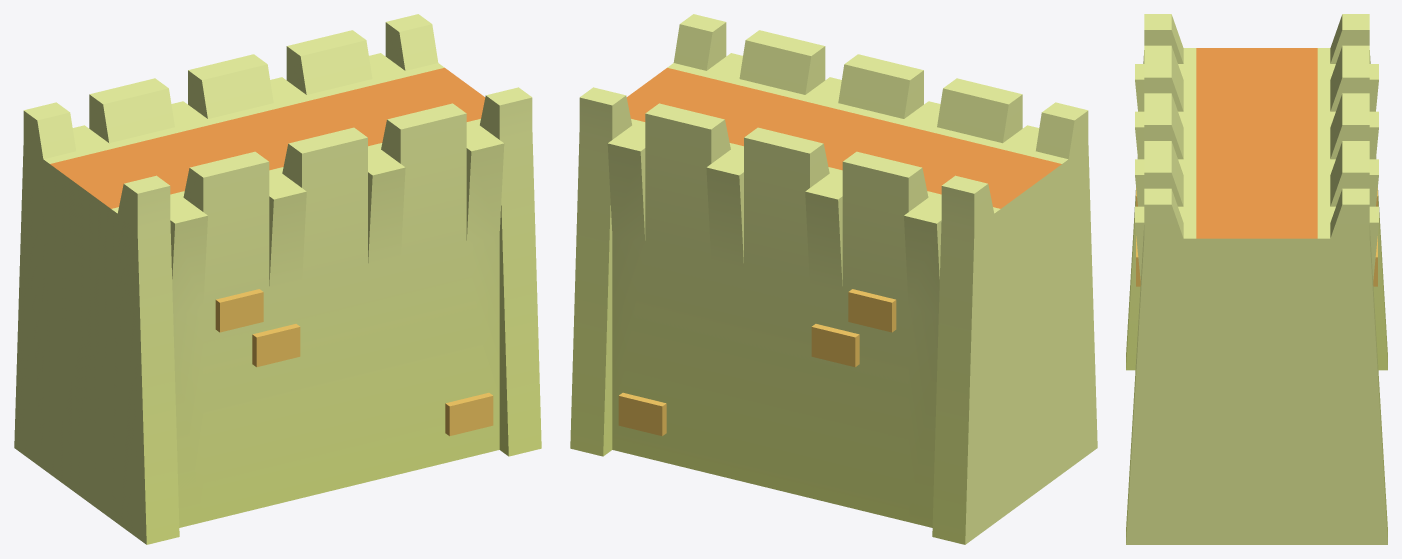
Rendered from Structure_Stone_Wall_01.fbx.
The picture shows the model from 3 angles, left to right: view 1: azimuth 30°, elevation 25°; view 2: azimuth 150°, elevation 25°; view 3: azimuth 270°, elevation 25°; orthographic projection.
Visible parts, largest first — view 1: Structure_Stone_Wall_01; view 2: Structure_Stone_Wall_01; view 3: Structure_Stone_Wall_01.
Boxes of the visible parts, <box> form: Structure_Stone_Wall_01: <box>14,14,541,544</box>; Structure_Stone_Wall_01: <box>570,14,1097,544</box>; Structure_Stone_Wall_01: <box>1126,14,1387,544</box>.
Bounding box in the file's own units: 800 × 667 × 465.
